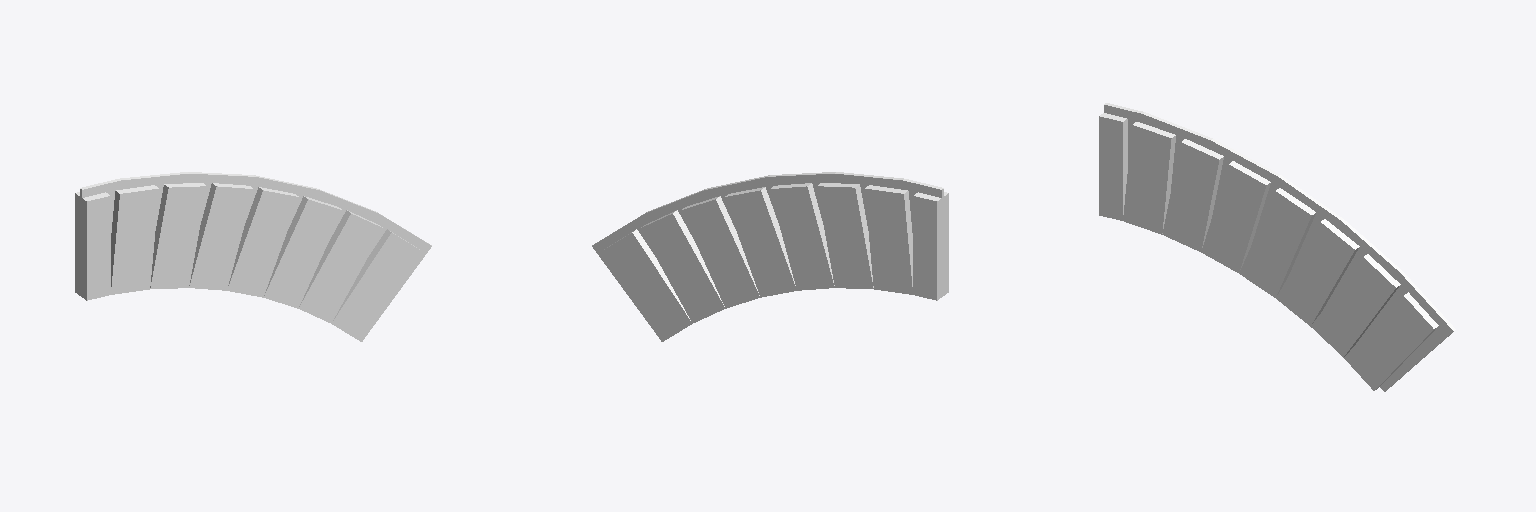
The model's file is lime_mortar_orange_clay_brick_facade_segmental_arch_2_right_bottom.obj.
The picture shows the model from 3 angles: view 1: azimuth 30°, elevation 25°; view 2: azimuth 150°, elevation 25°; view 3: azimuth 330°, elevation 25°; orthographic projection.
Visible parts, largest first — view 1: arch_2_right, arch_2_right_inner; view 2: arch_2_right, arch_2_right_inner; view 3: arch_2_right, arch_2_right_inner.
Part boxes in pixels (x1,y1,x2,y2): arch_2_right: (75,183,421,341); arch_2_right_inner: (80,172,431,334); arch_2_right: (602,183,948,341); arch_2_right_inner: (592,172,943,334); arch_2_right: (1099,113,1438,390); arch_2_right_inner: (1104,103,1455,391).
Bounding box in the file's own units: 1.38 × 0.8291 × 0.0812.